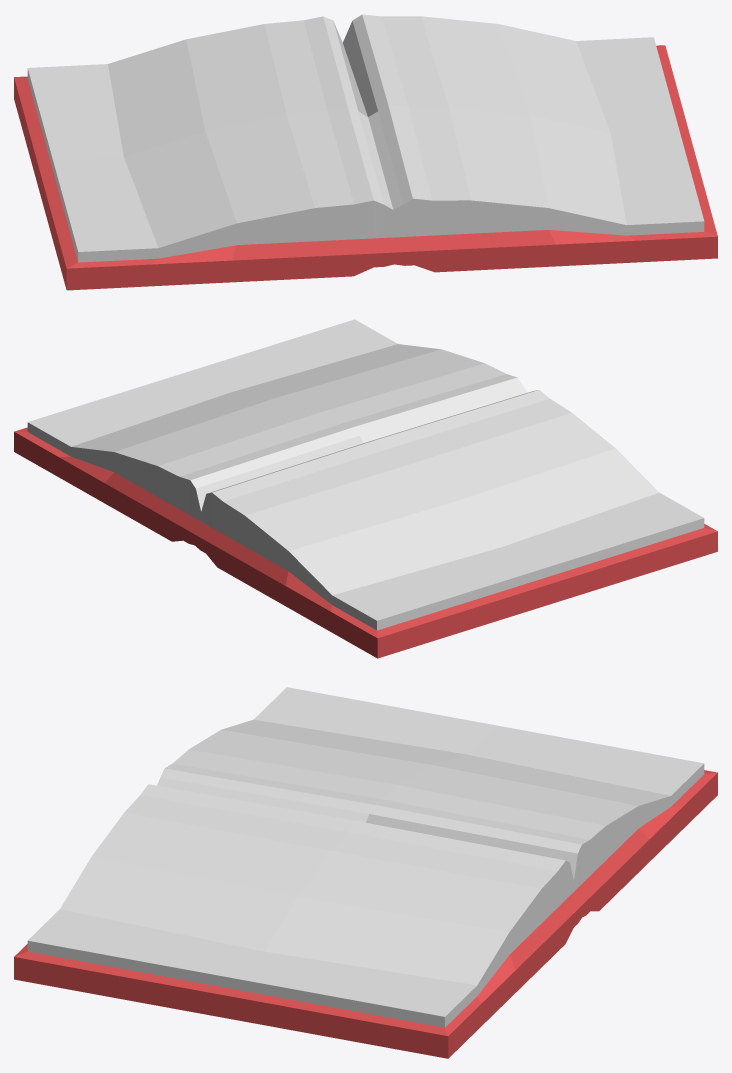
The model's file is book4.fbx.
3 views of the same model, one above another, from view 1: azimuth 30°, elevation 25°; view 2: azimuth 150°, elevation 25°; view 3: azimuth 270°, elevation 25° (orthographic). The views are drawn at different scales.
Parts seen in each view (by area): view 1: Cube.003; view 2: Cube.003; view 3: Cube.003.
Boxes of the visible parts, box(x1,y1,x2,y2) form: Cube.003: box(14, 14, 717, 290); Cube.003: box(14, 319, 717, 658); Cube.003: box(14, 687, 717, 1058).
Bounding box in the file's own units: 26.88 × 2.75 × 23.31.
